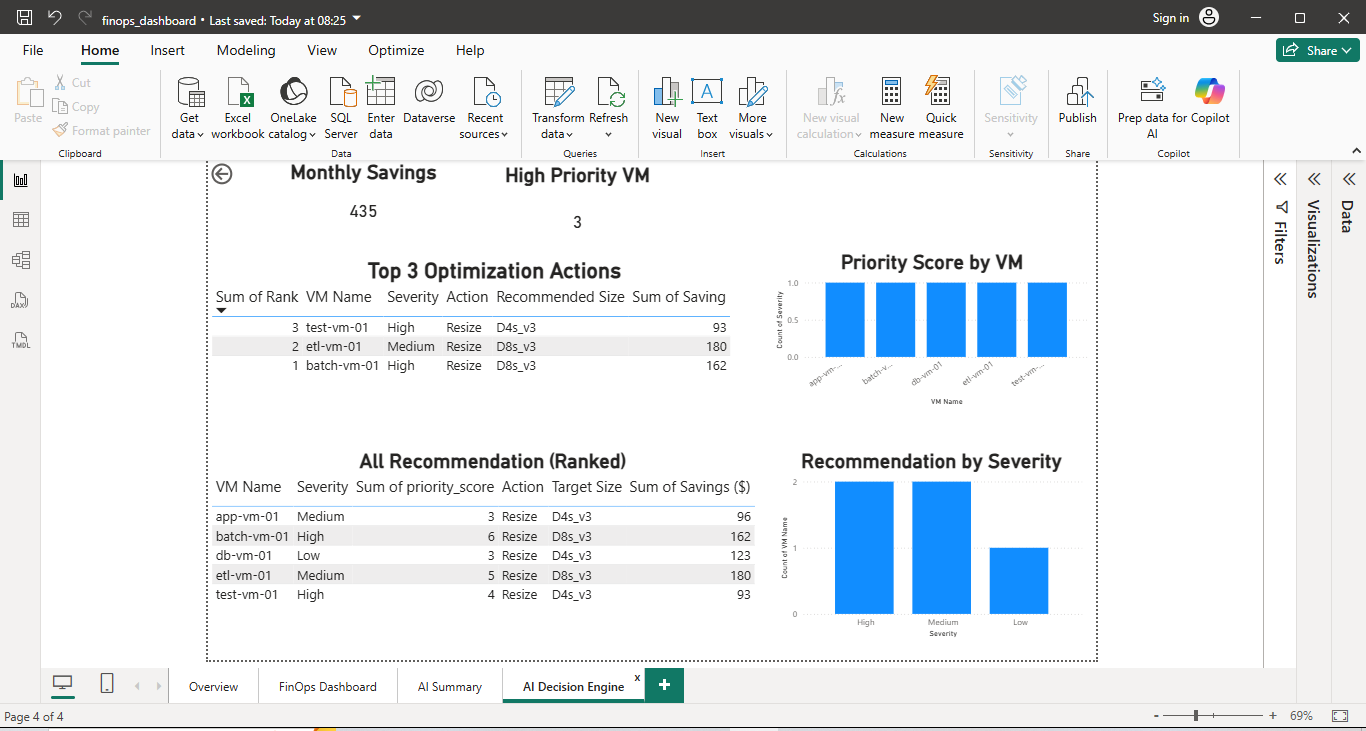

The page's visual inventory and layout, read from the dashboard file:
{"tool":"powerbi","page":{"name":"AI Decision Engine","canvas":[1280,720],"ordinal":3},"visuals":[{"type":"tableEx","title":"Top 3 Optimization Actions","fields":{"Values":["Sum(top_actions.rank)","top_actions.vm_name","top_actions.severity","top_actions.recommended_action","top_actions.recommended_vm_size","Sum(top_actions.estimated_monthly_savings)"]},"box":[0,141.1,825.1,217.4],"z":0},{"type":"tableEx","title":"All Recommendation (Ranked)","fields":{"Values":["agent_recommendations.VM Name","agent_recommendations.Severity","Sum(agent_recommendations.priority_score)","agent_recommendations.Action","agent_recommendations.Target Size","Sum(agent_recommendations.Savings ($))"]},"box":[0,416.2,819.4,229],"z":1000},{"type":"clusteredColumnChart","title":"Recommendation by Severity","fields":{"Category":["agent_recommendations.Severity"],"Y":["CountNonNull(agent_recommendations.VM Name)"]},"box":[819.4,416.2,445,276.5],"z":2000},{"type":"columnChart","title":"Priority Score by VM","fields":{"Category":["agent_recommendations.VM Name"],"Y":["CountNonNull(agent_recommendations.Severity)"]},"box":[812.2,129.6,460.8,229],"z":3000},{"type":"card","title":"Monthly Savings","fields":{"Values":["Sum(top_actions.Saving)"]},"box":[97.9,0,252,112.3],"z":4000},{"type":"card","title":"High Priority VM","fields":{"Values":["CountNonNull(top_actions.VM Name)"]},"box":[381.6,4.3,301,136.8],"z":5000},{"type":"actionButton","box":[0,0,100,40],"z":6000}]}

Visuals, with their boxes on the page's 1280x720 design canvas (x1, y1, x2, y2). These are canvas units, not pixel positions in the 1366x731 screenshot, which may show the page scaled, cropped or inside an application window:
"Top 3 Optimization Actions" tableEx: 0/141/825/358
"All Recommendation (Ranked)" tableEx: 0/416/819/645
"Recommendation by Severity" clusteredColumnChart: 819/416/1264/693
"Priority Score by VM" columnChart: 812/130/1273/359
"Monthly Savings" card: 98/0/350/112
"High Priority VM" card: 382/4/683/141
actionButton: 0/0/100/40
